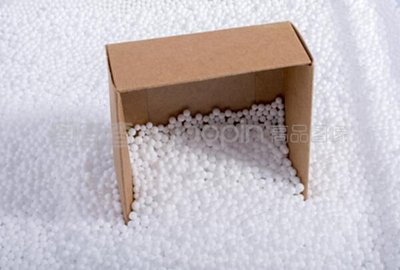5/可回收垃圾/泡沫: (104, 21, 314, 225)
